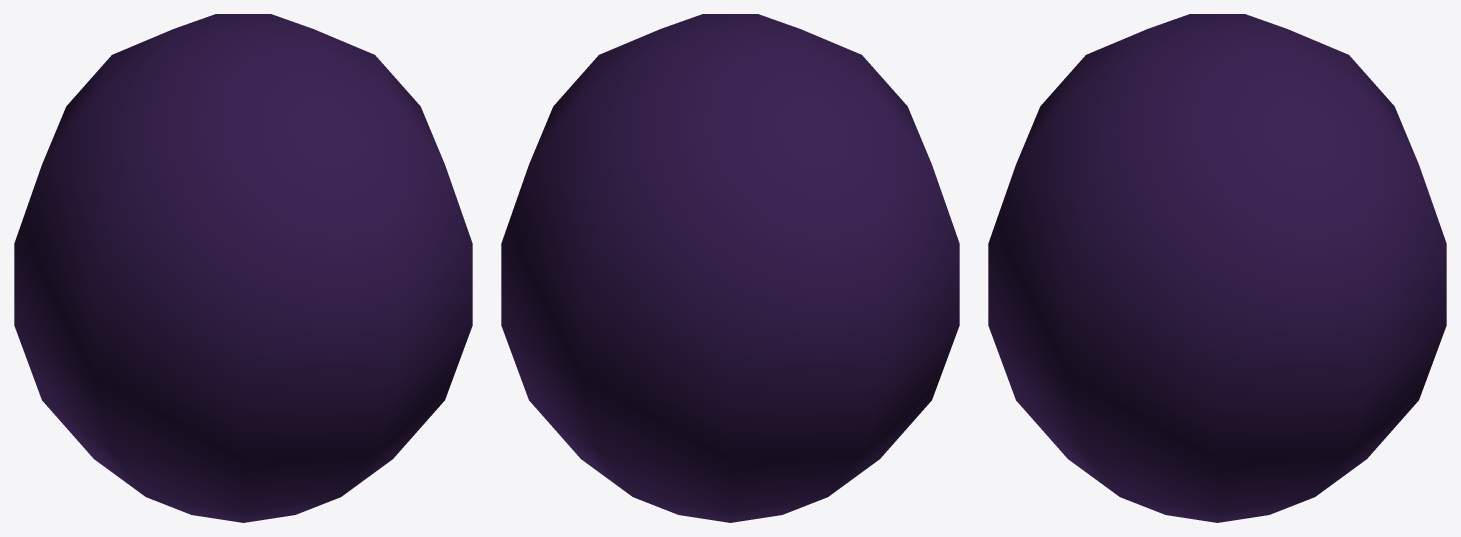
Rendered from velumosa_stage1.obj.
3 views of the same model, side by side, from view 1: azimuth 30°, elevation 25°; view 2: azimuth 150°, elevation 25°; view 3: azimuth 270°, elevation 25° (orthographic).
Bounding box in the file's own units: 1.34 × 1.54 × 1.36.
